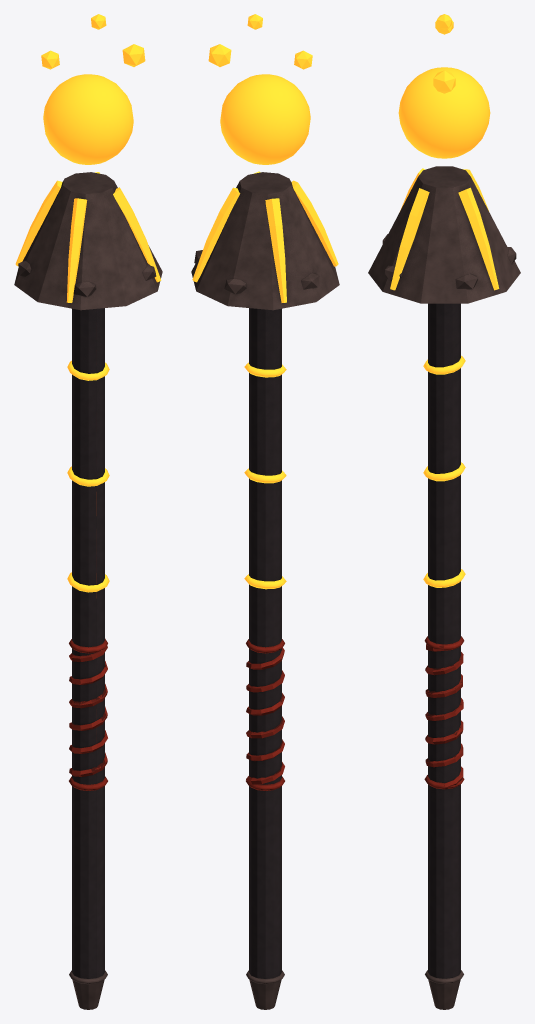
The model's file is 06_volcano_magic.fbx.
3 views of the same model, side by side, from view 1: azimuth 30°, elevation 25°; view 2: azimuth 150°, elevation 25°; view 3: azimuth 270°, elevation 25° (orthographic).
Visible parts, largest first — view 1: Weapon; view 2: Weapon; view 3: Weapon.
Boxes of the visible parts, x1,y1,x2,y2 form: Weapon: (14,14,162,1009); Weapon: (191,14,339,1009); Weapon: (368,14,520,1009).
Bounding box in the file's own units: 22.22 × 168 × 23.36.
Materials: 2 (1 with a texture image).
